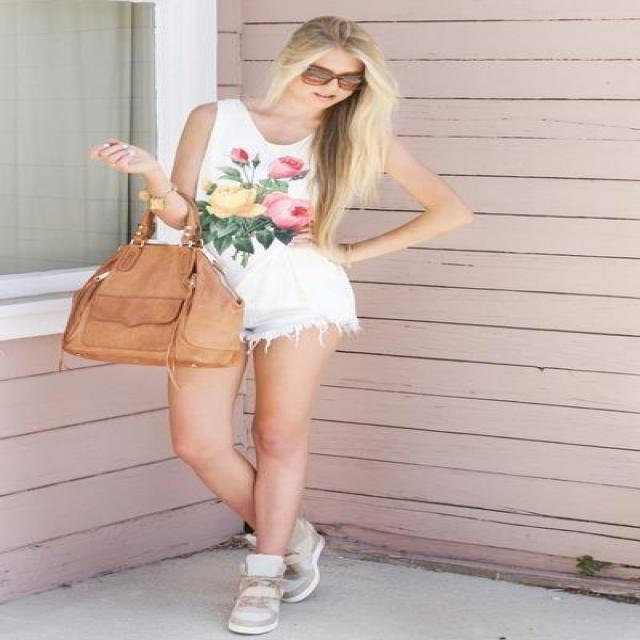bag: (62, 243, 248, 374)
dress: (189, 88, 358, 349)
shoe: (228, 517, 329, 639)
sunglass: (301, 64, 368, 103)
